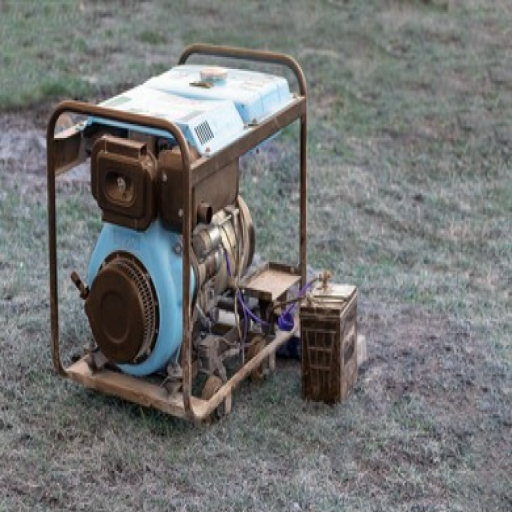portable_generator: (48, 43, 308, 423)
